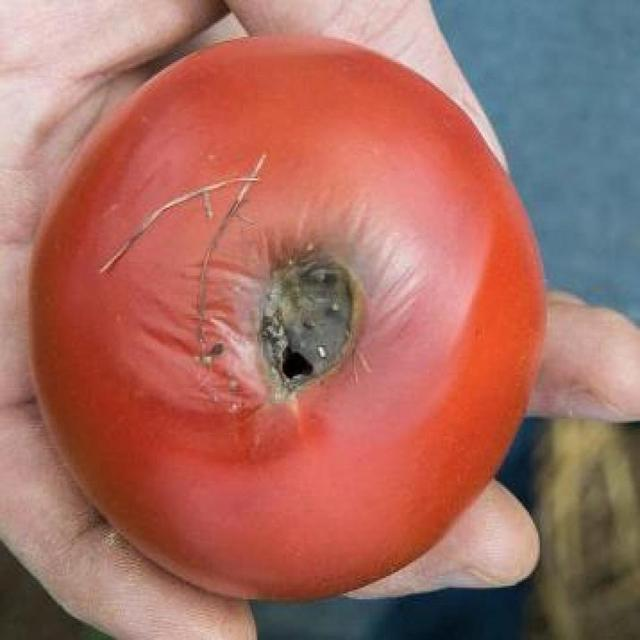Cracking Fruit: (53, 71, 208, 211)
